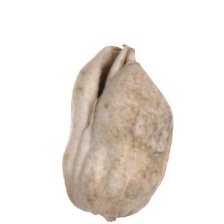L1: (93, 42, 138, 107), (86, 211, 138, 221)
L2: (60, 45, 173, 221)
